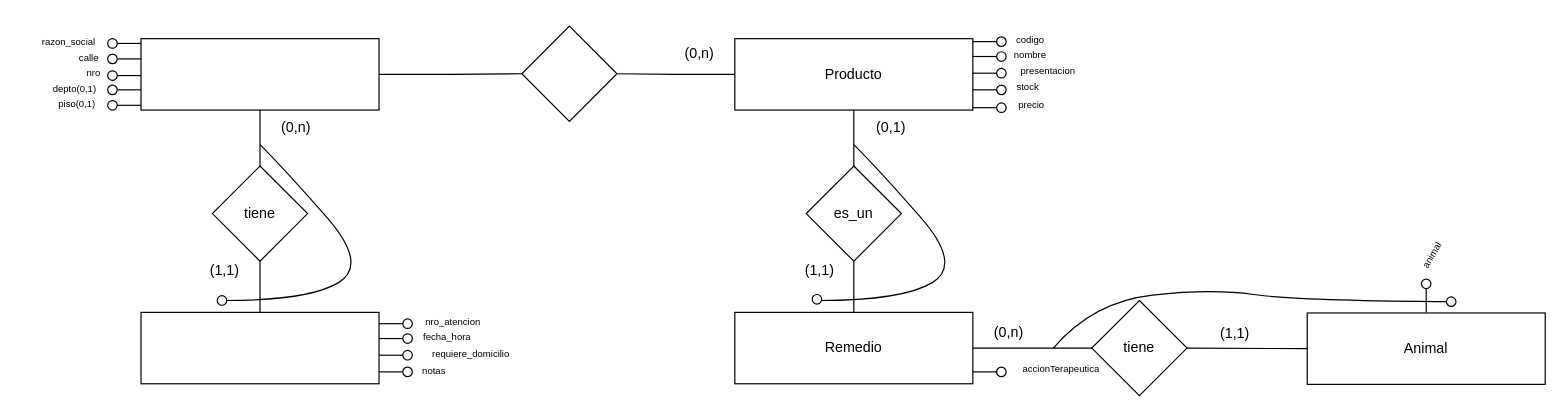
Some shapes in this 1566 by 417 pixel diagram are drawn without their labels. The centre of each missing label's shape, as x and y in pixels:
"Atención" belongs at [259,347].
"Clínica" belongs at [259,73].
"vende" belongs at [569,73].
